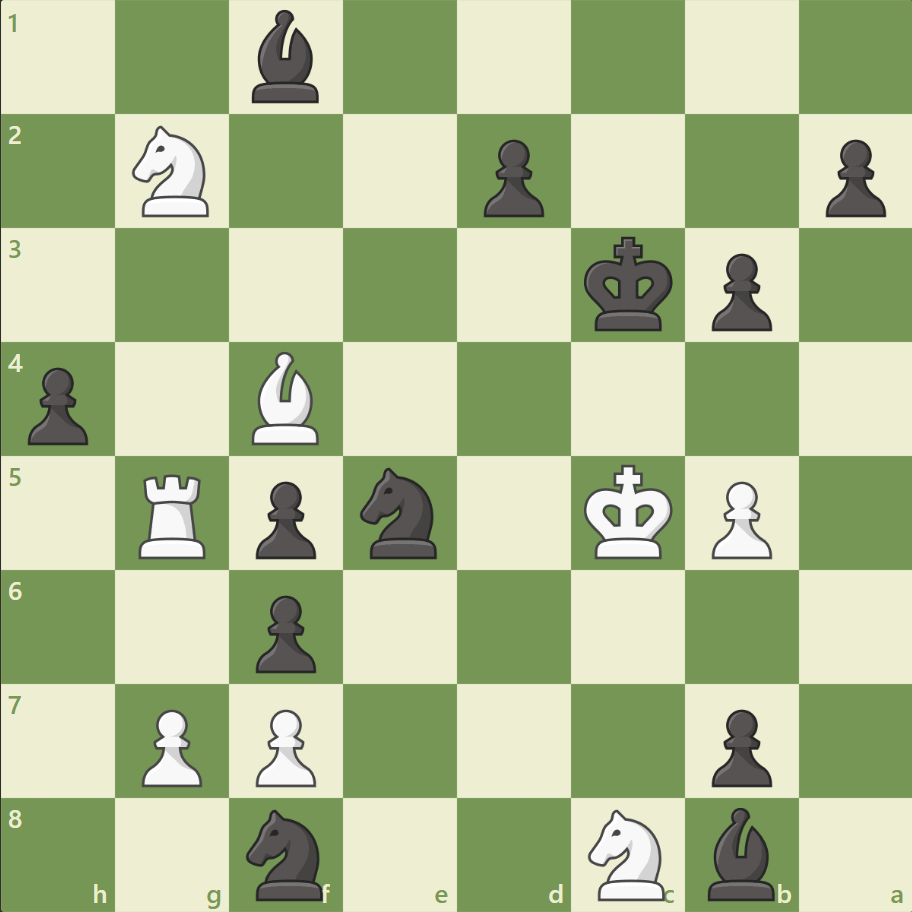B: (244, 347, 328, 449)
K: (579, 458, 679, 566)
N: (124, 121, 222, 223), (579, 802, 676, 904)
P: (247, 700, 322, 791), (133, 700, 208, 791), (701, 473, 776, 564)
R: (133, 466, 215, 563)
b: (698, 801, 782, 904), (244, 6, 328, 109)
k: (579, 231, 679, 339)
n: (351, 461, 449, 564), (238, 802, 335, 904)
p: (701, 700, 776, 791), (247, 586, 322, 677), (247, 473, 322, 564), (20, 359, 95, 450), (701, 246, 776, 337), (474, 132, 549, 223), (815, 132, 889, 223)
